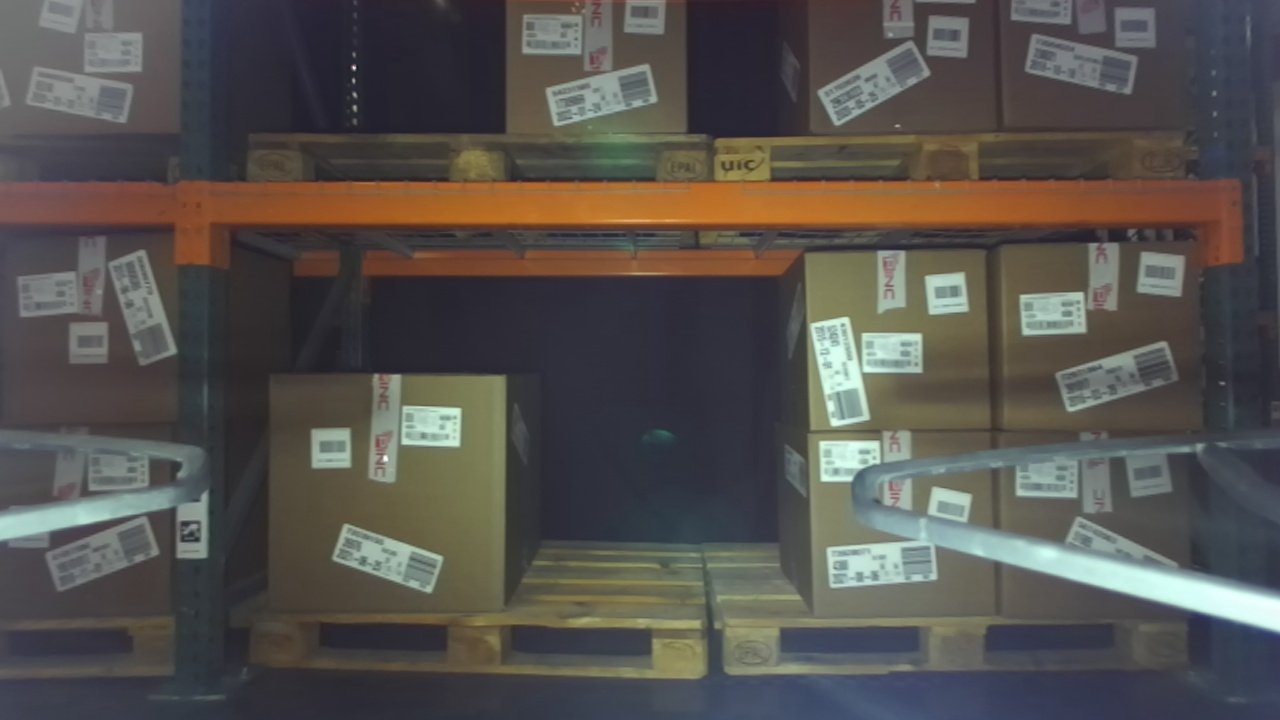box: (247, 357, 533, 630), (984, 204, 1211, 457), (780, 421, 1028, 648), (782, 224, 1015, 462), (973, 418, 1211, 651), (1, 396, 200, 639), (1, 211, 195, 443), (980, 1, 1224, 161), (777, 1, 1018, 154), (479, 1, 708, 158), (3, 1, 213, 158)
